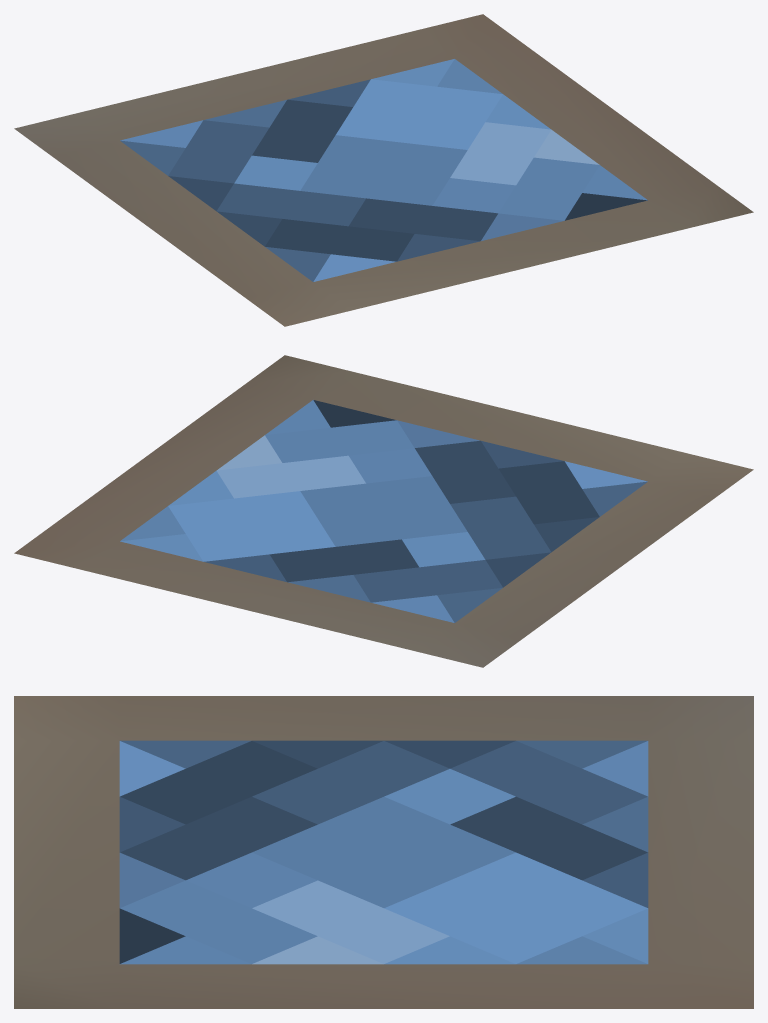
Rendered from Floor-Archway_D.fbx.
The picture shows the model from 3 angles, top to bottom: view 1: azimuth 30°, elevation 25°; view 2: azimuth 150°, elevation 25°; view 3: azimuth 270°, elevation 25°; orthographic projection. The views are drawn at different scales.
Parts seen in each view (by area): view 1: Floor-Archway_D; view 2: Floor-Archway_D; view 3: Floor-Archway_D.
Part boxes in pixels (x1,y1,x2,y2): Floor-Archway_D: (14, 14, 753, 326); Floor-Archway_D: (14, 355, 753, 667); Floor-Archway_D: (14, 696, 753, 1008).
Size of the model in its own units: 350 by 6.1e-05 by 350.
